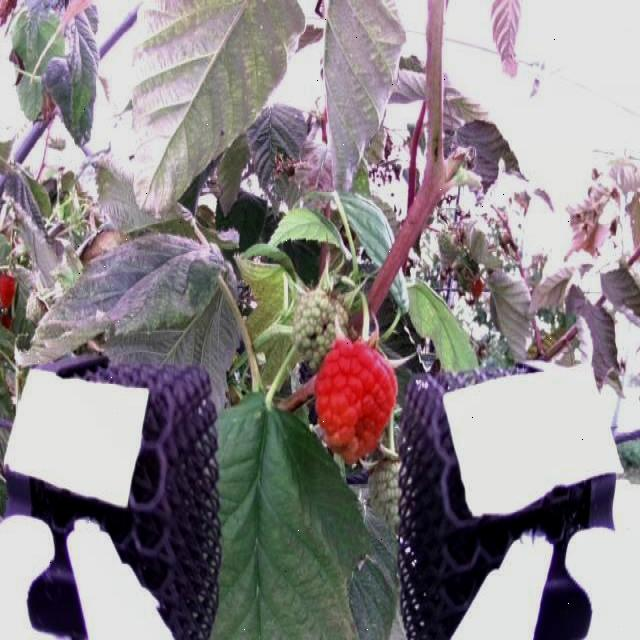Riped berries: (312, 334, 398, 462), (0, 267, 16, 305)
